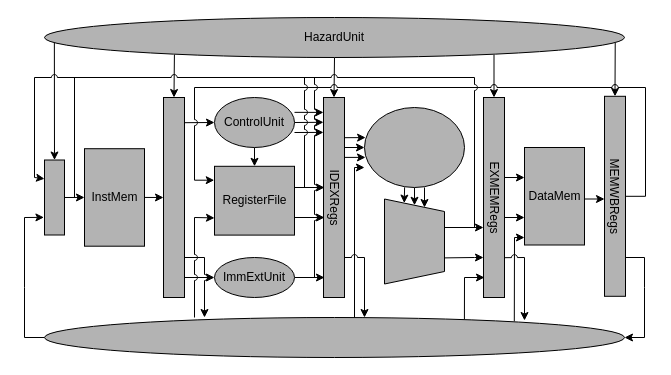
The diagram is 671 pixels wide and 375 high, and some of its shapes have lost their labels. The centre of each missing label's shape, as x and y in pixels:
ALU: the point at 414,241
ALUControlUnit: the point at 414,147
ForwardingUnit: the point at 334,337
IFIDRegs: the point at 173,197
PC: the point at 54,197
